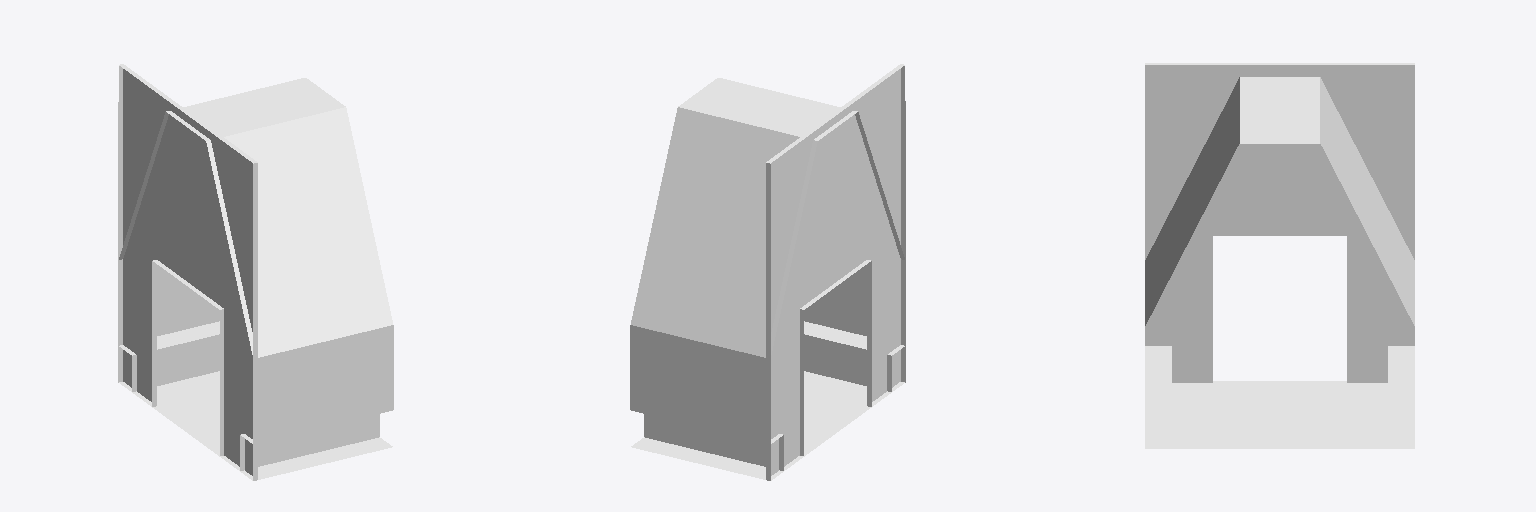
Rendered from CZ-Hallway-End-00.obj.
3 renders of one model, left to right at view 1: azimuth 30°, elevation 25°; view 2: azimuth 150°, elevation 25°; view 3: azimuth 270°, elevation 25°, orthographic.
Parts seen in each view (by area): view 1: CZ-Hallway-End-00; view 2: CZ-Hallway-End-00; view 3: CZ-Hallway-End-00.
Part boxes in pixels (x1,y1,x2,y2): CZ-Hallway-End-00: (118,64,393,480); CZ-Hallway-End-00: (630,64,905,480); CZ-Hallway-End-00: (1145,63,1414,448).
Bounding box in the file's own units: 3 × 6.5 × 5.